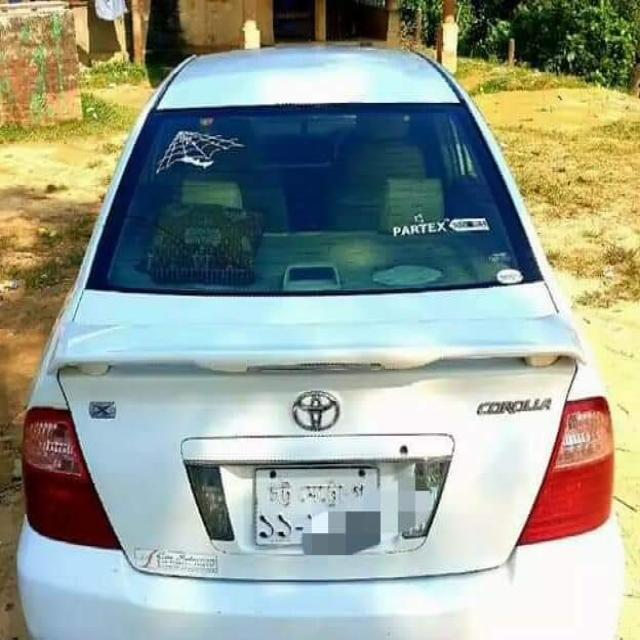white: (25, 41, 618, 640)
